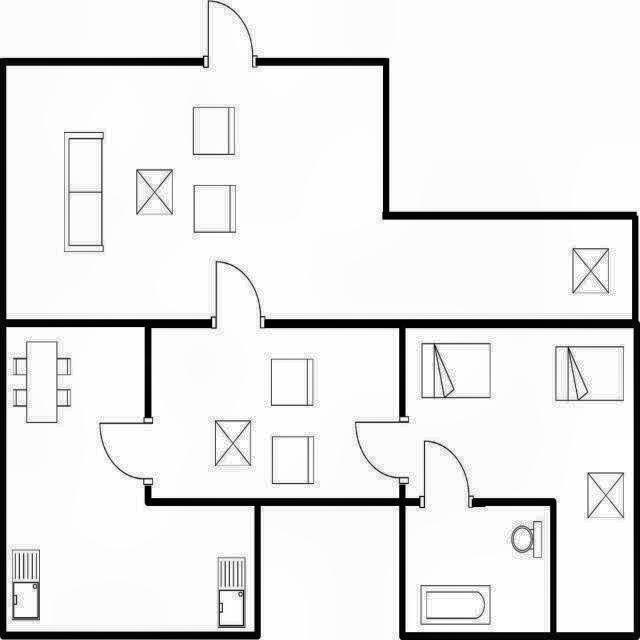room: (6, 66, 632, 319), (6, 327, 255, 632), (405, 328, 634, 632), (151, 328, 399, 498), (406, 506, 550, 632)
